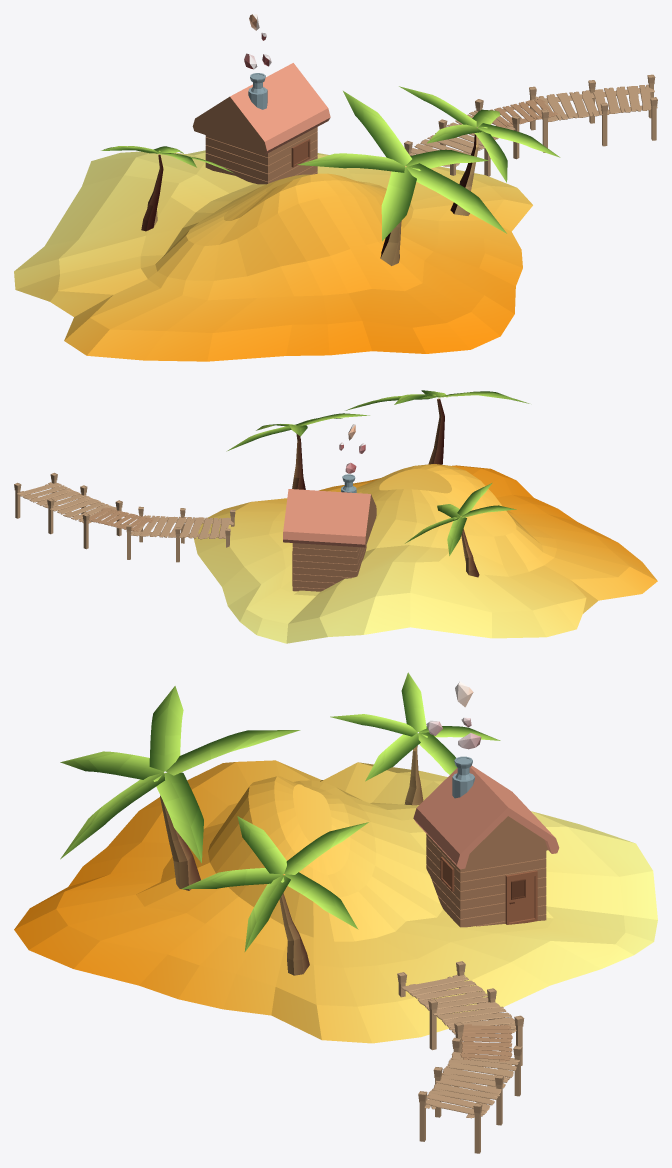
File: Saari Prototyyppi.fbx
3 renders of one model, top to bottom at view 1: azimuth 30°, elevation 25°; view 2: azimuth 150°, elevation 25°; view 3: azimuth 270°, elevation 25°, orthographic. The views are drawn at different scales.
Visible parts, largest first — view 1: Saari, Talo, Palmu.001, Silta, Palmu.000, Palmu.002; view 2: Saari, Talo, Silta, Palmu.002, Palmu.001, Palmu.000; view 3: Saari, Talo, Silta, Palmu.001, Palmu.000, Palmu.002, Smoke.
Part boxes in pixels (x1,y1,x2,y2): Saari: (14,150,532,361); Talo: (192,63,330,184); Palmu.001: (297,91,506,265); Silta: (404,74,657,176); Palmu.000: (399,86,560,215); Palmu.002: (101,146,232,231); Saari: (193,464,657,643); Talo: (283,474,376,591); Silta: (14,472,235,562); Palmu.002: (405,483,516,577); Palmu.001: (345,390,529,464); Palmu.000: (226,413,369,489); Saari: (14,760,657,1043); Talo: (413,756,559,927); Silta: (397,961,524,1153); Palmu.001: (60,686,300,890); Palmu.000: (181,816,368,975); Palmu.002: (330,672,500,805); Smoke: (426,681,481,749).
Size of the model in its own units: 8046 by 2349 by 5690.
